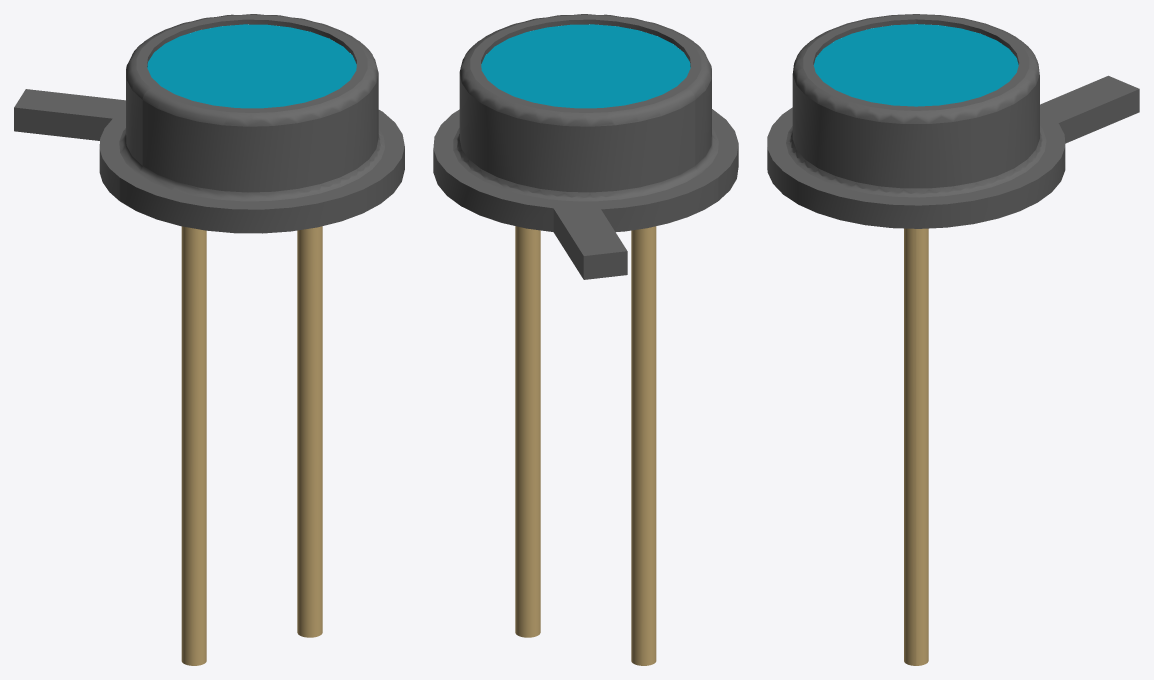
The model's file is kc-to-46-2_window.glb.
The picture shows the model from 3 angles, left to right: view 1: azimuth 30°, elevation 25°; view 2: azimuth 150°, elevation 25°; view 3: azimuth 270°, elevation 25°; orthographic projection. The views are drawn at different scales.
Visible parts, largest first — view 1: 0.16666666666666666_0.16666666666666666_0.16666666666666666_, 0.75_0.5_0.25_0.9, 0_0.3333333333333333_0.5_0; view 2: 0.16666666666666666_0.16666666666666666_0.16666666666666666_, 0.75_0.5_0.25_0.9, 0_0.3333333333333333_0.5_0; view 3: 0.16666666666666666_0.16666666666666666_0.16666666666666666_, 0_0.3333333333333333_0.5_0, 0.75_0.5_0.25_0.9.
Boxes of the visible parts, bbox=[...] form: 0.16666666666666666_0.16666666666666666_0.16666666666666666_: bbox=[14, 14, 404, 233]; 0.75_0.5_0.25_0.9: bbox=[181, 226, 322, 665]; 0_0.3333333333333333_0.5_0: bbox=[147, 24, 356, 108]; 0.16666666666666666_0.16666666666666666_0.16666666666666666_: bbox=[433, 14, 738, 279]; 0.75_0.5_0.25_0.9: bbox=[515, 226, 656, 665]; 0_0.3333333333333333_0.5_0: bbox=[481, 24, 690, 108]; 0.16666666666666666_0.16666666666666666_0.16666666666666666_: bbox=[767, 14, 1139, 228]; 0_0.3333333333333333_0.5_0: bbox=[813, 24, 1018, 106]; 0.75_0.5_0.25_0.9: bbox=[904, 228, 928, 665].
Size of the model in its own units: 0.5964 by 1.22 by 0.7225.
